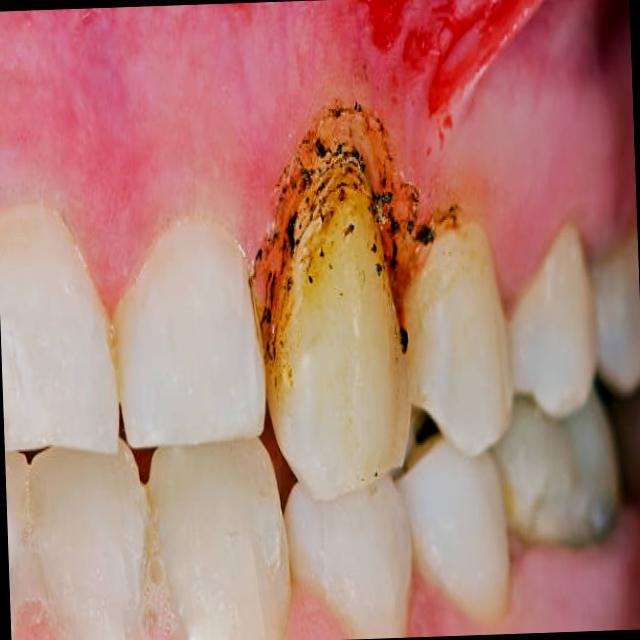calculus: (280, 128, 384, 336)
